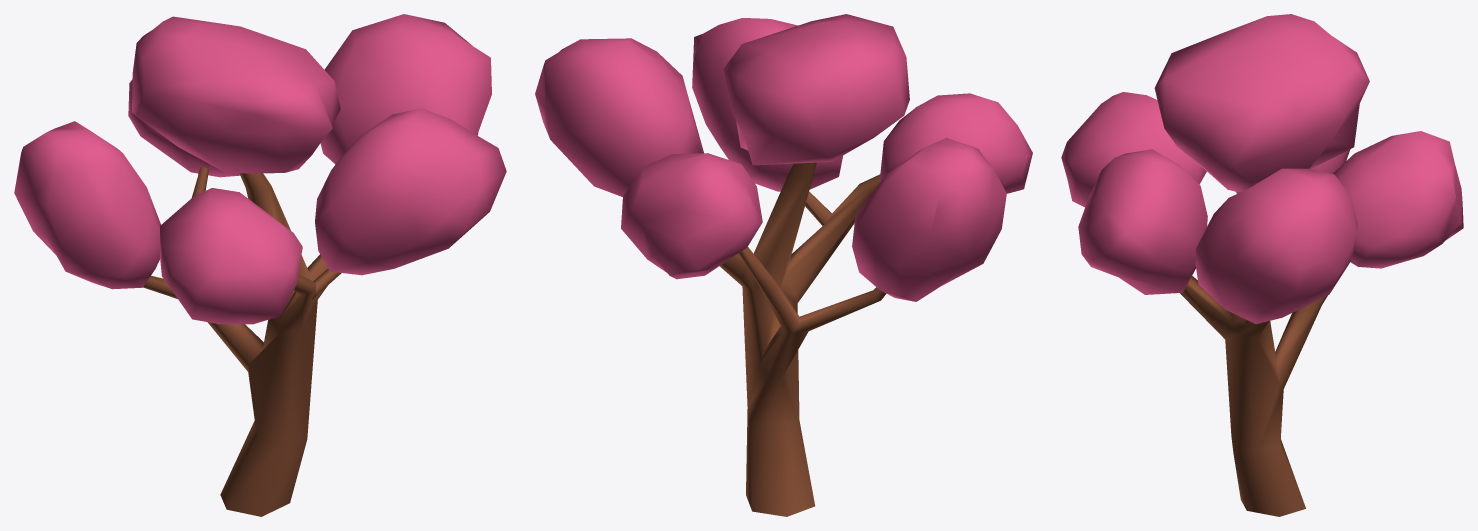
Rendered from Tree_5.fbx.
3 views of the same model, side by side, from view 1: azimuth 30°, elevation 25°; view 2: azimuth 150°, elevation 25°; view 3: azimuth 270°, elevation 25° (orthographic). The views are drawn at different scales.
Visible parts, largest first — view 1: Tree_5; view 2: Tree_5; view 3: Tree_5.
Boxes of the visible parts, x1,y1,x2,y2 form: Tree_5: (14,14,506,516); Tree_5: (535,14,1032,516); Tree_5: (1061,14,1463,516).
Size of the model in its own units: 608 by 626 by 503.
